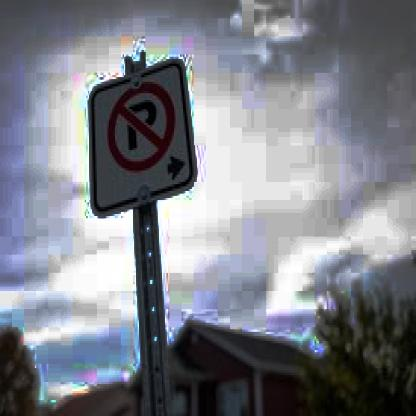No parking: (98, 82, 190, 186)
